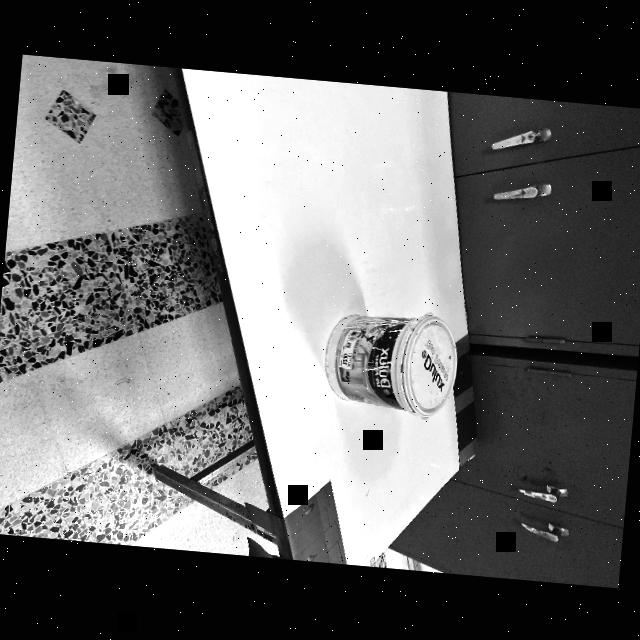paint_bucket: (322, 300, 468, 422)
